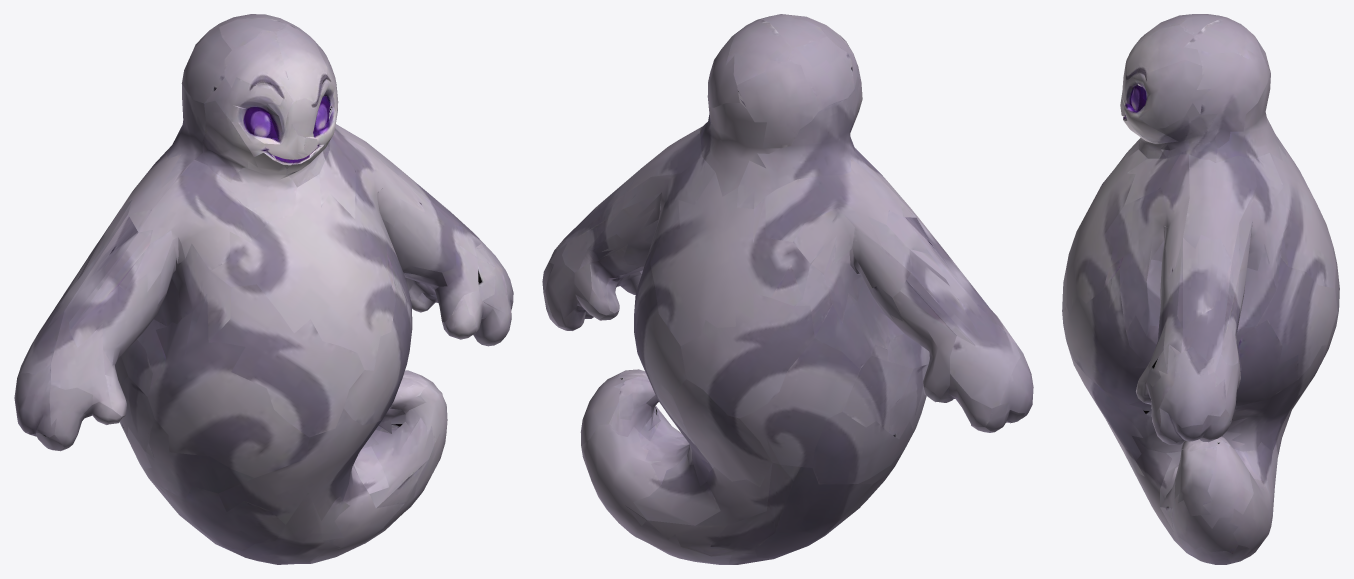
File: shadow-wraith.low.glb
The picture shows the model from 3 angles, left to right: view 1: azimuth 30°, elevation 25°; view 2: azimuth 150°, elevation 25°; view 3: azimuth 270°, elevation 25°; orthographic projection. The views are drawn at different scales.
Visible parts, largest first — view 1: output_unwrapped; view 2: output_unwrapped; view 3: output_unwrapped.
Boxes of the visible parts, <box> form: output_unwrapped: <box>14,14,513,564</box>; output_unwrapped: <box>542,14,1033,564</box>; output_unwrapped: <box>1062,14,1339,564</box>.
Size of the model in its own units: 1.77 by 1.9 by 0.9556.
Materials: 1 (1 with a texture image).
